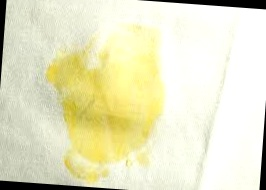mustard: (36, 28, 164, 188)
